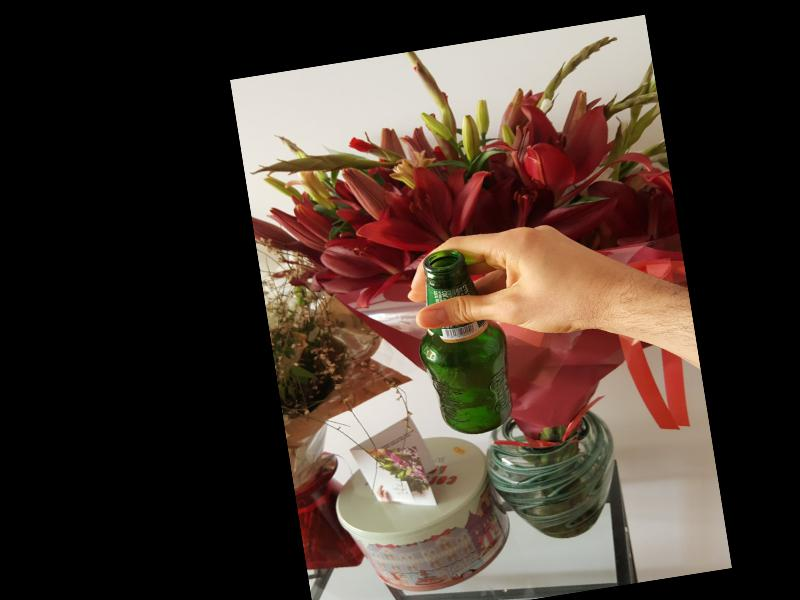Beer: (405, 245, 516, 441)
